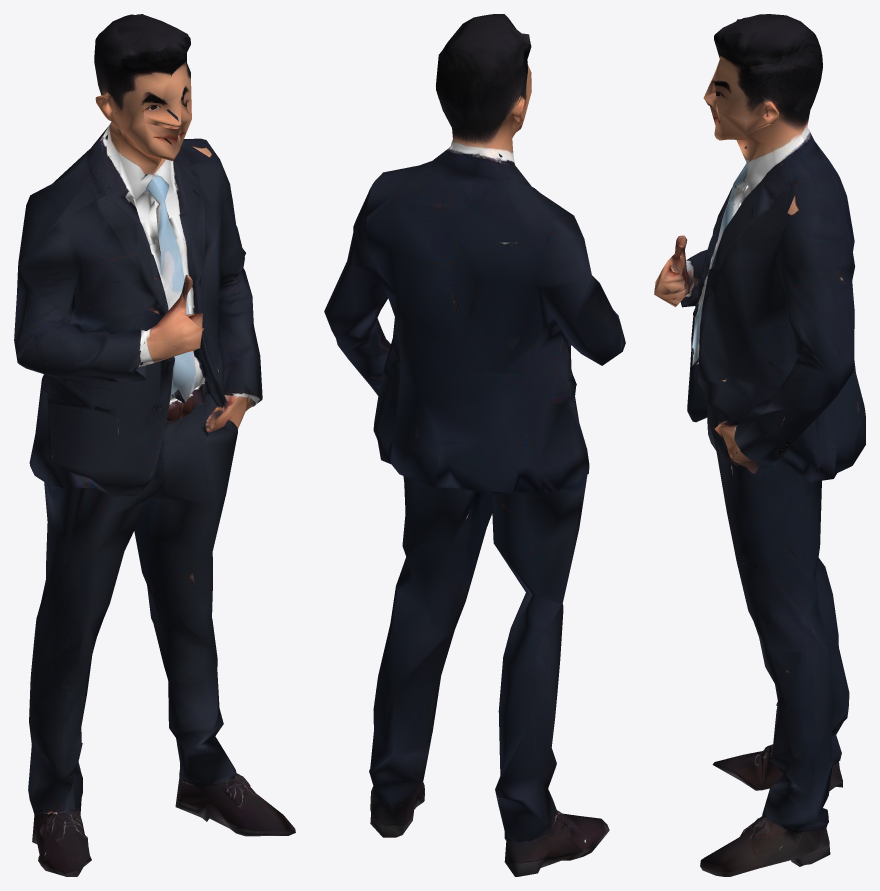
File: ceo_character.glb
The picture shows the model from 3 angles, left to right: view 1: azimuth 30°, elevation 25°; view 2: azimuth 150°, elevation 25°; view 3: azimuth 270°, elevation 25°; orthographic projection. The views are drawn at different scales.
Bounding box in the file's own units: 0.634 × 1.9 × 0.453.
1 material, 1 textured.
